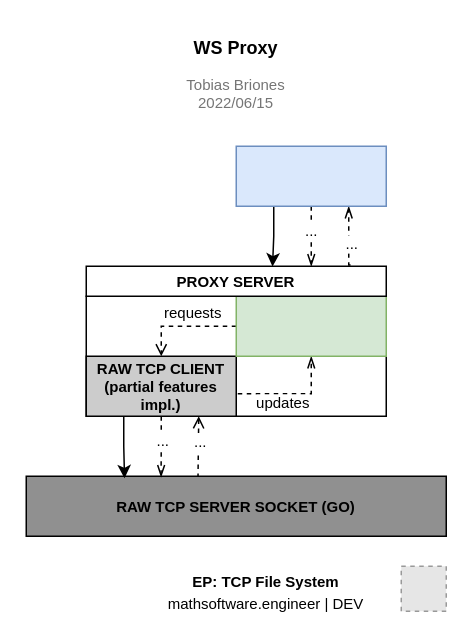
Image size: 473x638. Some labels were removed from this diagram. Grey dashed boxes stand in for pictures. Here are the shapes that lost their labels. From the top down, the box of each, then its label:
(235, 145, 386, 206): WEB SOCKET CLIENT
(235, 295, 386, 356): WEB SOCKET SERVER
